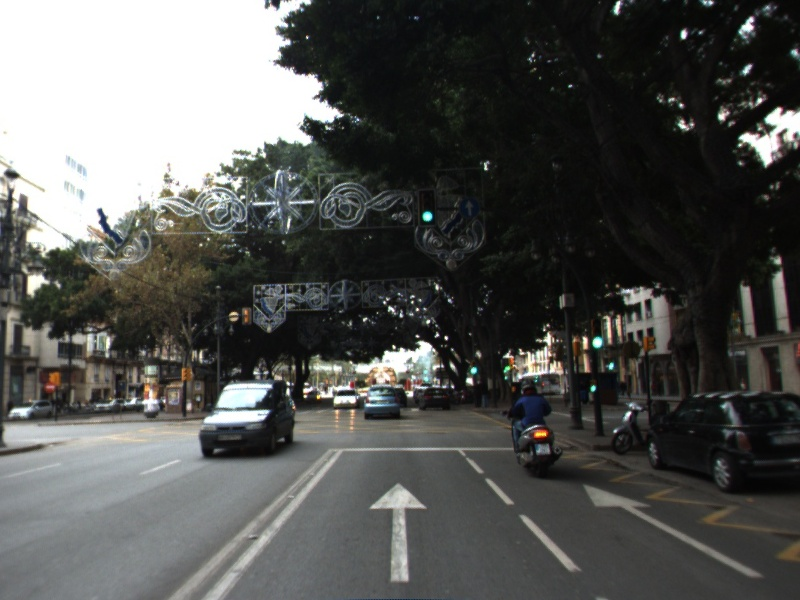STRAIGHT: (580, 481, 768, 580), (365, 478, 432, 585)
